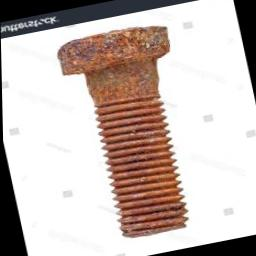Corroded-Bolt: (57, 25, 187, 238)
